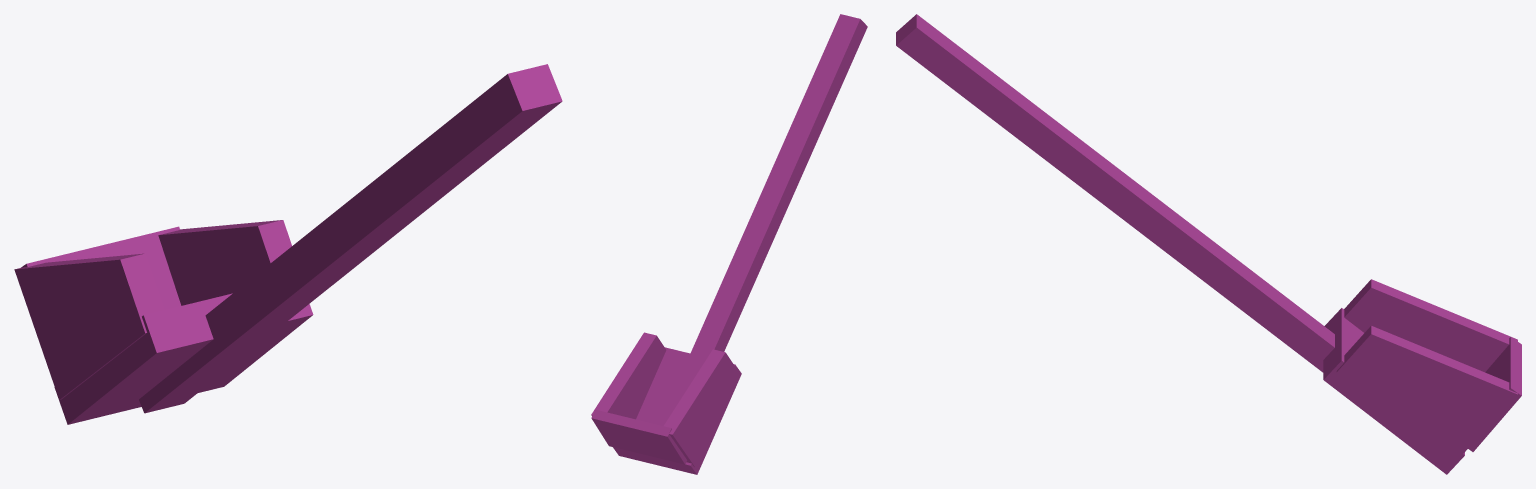
The model's file is SM_Veh_Trebuchet_01_Beam_01_Collision.fbx.
3 views of the same model, side by side, from view 1: azimuth 30°, elevation 25°; view 2: azimuth 150°, elevation 25°; view 3: azimuth 270°, elevation 25° (orthographic). The views are drawn at different scales.
Parts seen in each view (by area): view 1: SM_Veh_Trebuchet_01_Beam_01_Collision; view 2: SM_Veh_Trebuchet_01_Beam_01_Collision; view 3: SM_Veh_Trebuchet_01_Beam_01_Collision.
Boxes of the visible parts, x1,y1,x2,y2 form: SM_Veh_Trebuchet_01_Beam_01_Collision: [14, 64, 562, 424]; SM_Veh_Trebuchet_01_Beam_01_Collision: [591, 14, 867, 474]; SM_Veh_Trebuchet_01_Beam_01_Collision: [896, 14, 1521, 474].
Bounding box in the file's own units: 149 × 540 × 717.
